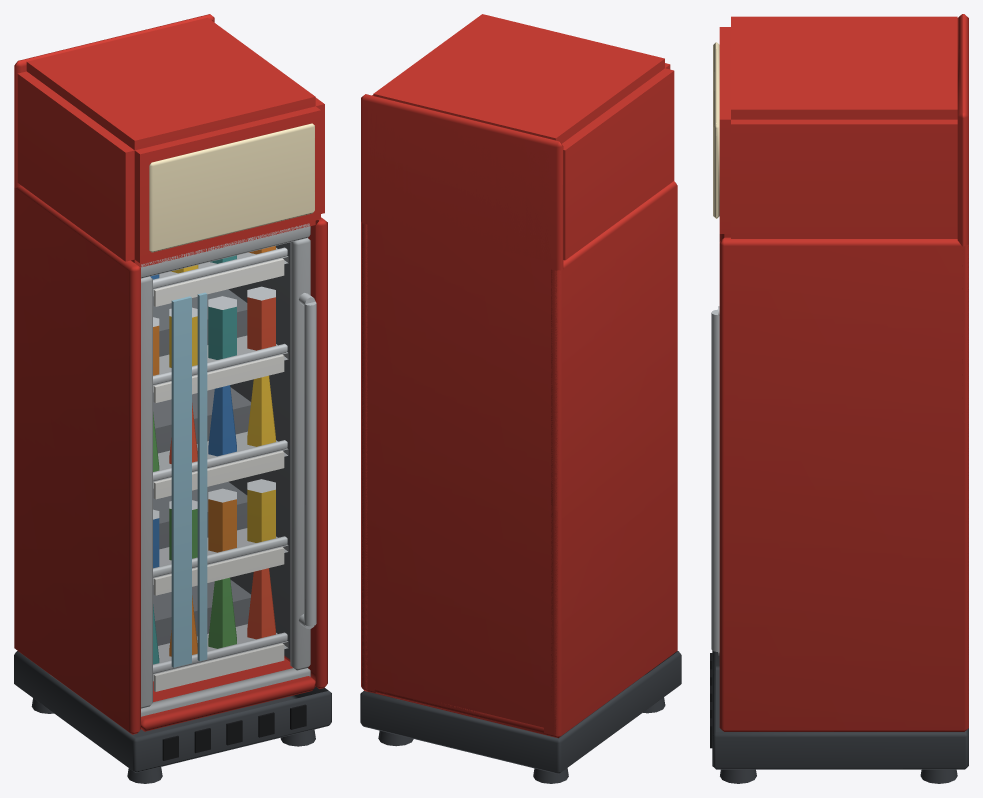
The model's file is DrinkCooler_Upright_01_Stocked.glb.
3 views of the same model, side by side, from view 1: azimuth 30°, elevation 25°; view 2: azimuth 150°, elevation 25°; view 3: azimuth 270°, elevation 25° (orthographic). The views are drawn at different scales.
Parts seen in each view (by area): view 1: SM_DrinkCooler_Upright_01_Stocked; view 2: SM_DrinkCooler_Upright_01_Stocked; view 3: SM_DrinkCooler_Upright_01_Stocked.
Boxes of the visible parts, <box> form: SM_DrinkCooler_Upright_01_Stocked: <box>14,14,331,783</box>; SM_DrinkCooler_Upright_01_Stocked: <box>360,14,681,783</box>; SM_DrinkCooler_Upright_01_Stocked: <box>710,14,968,783</box>.
Bounding box in the file's own units: 0.65 × 2 × 0.696.
1 material, 1 textured.
